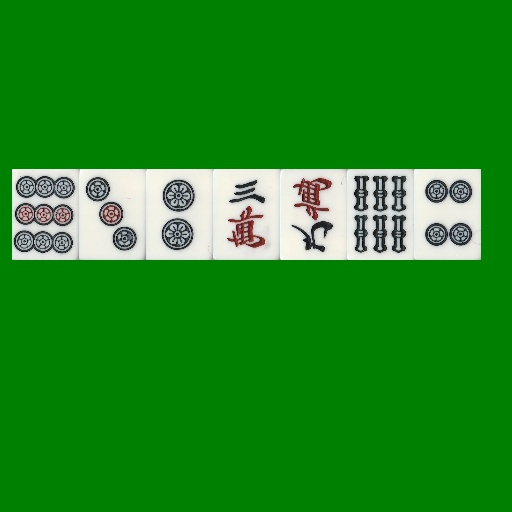2p: (146, 169, 213, 260)
3m: (213, 169, 280, 260)
3p: (79, 169, 146, 260)
4p: (414, 169, 481, 260)
6s: (347, 169, 414, 260)
9m: (280, 169, 347, 260)
9p: (12, 169, 79, 260)
